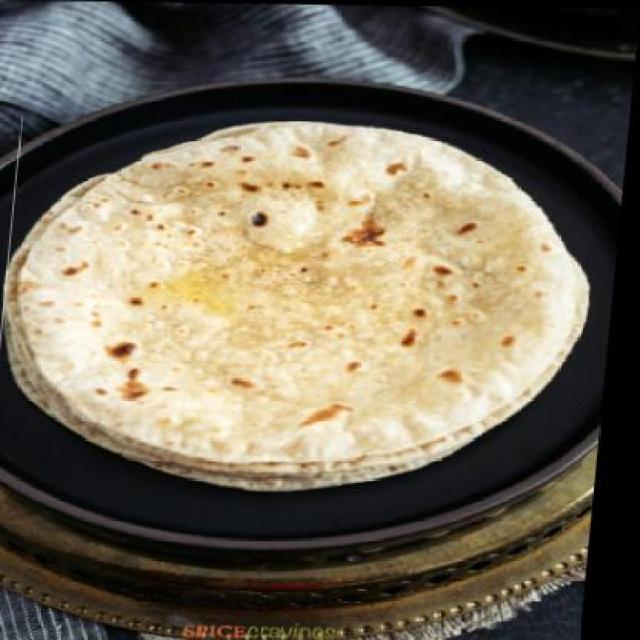chapati: (0, 118, 606, 493)
